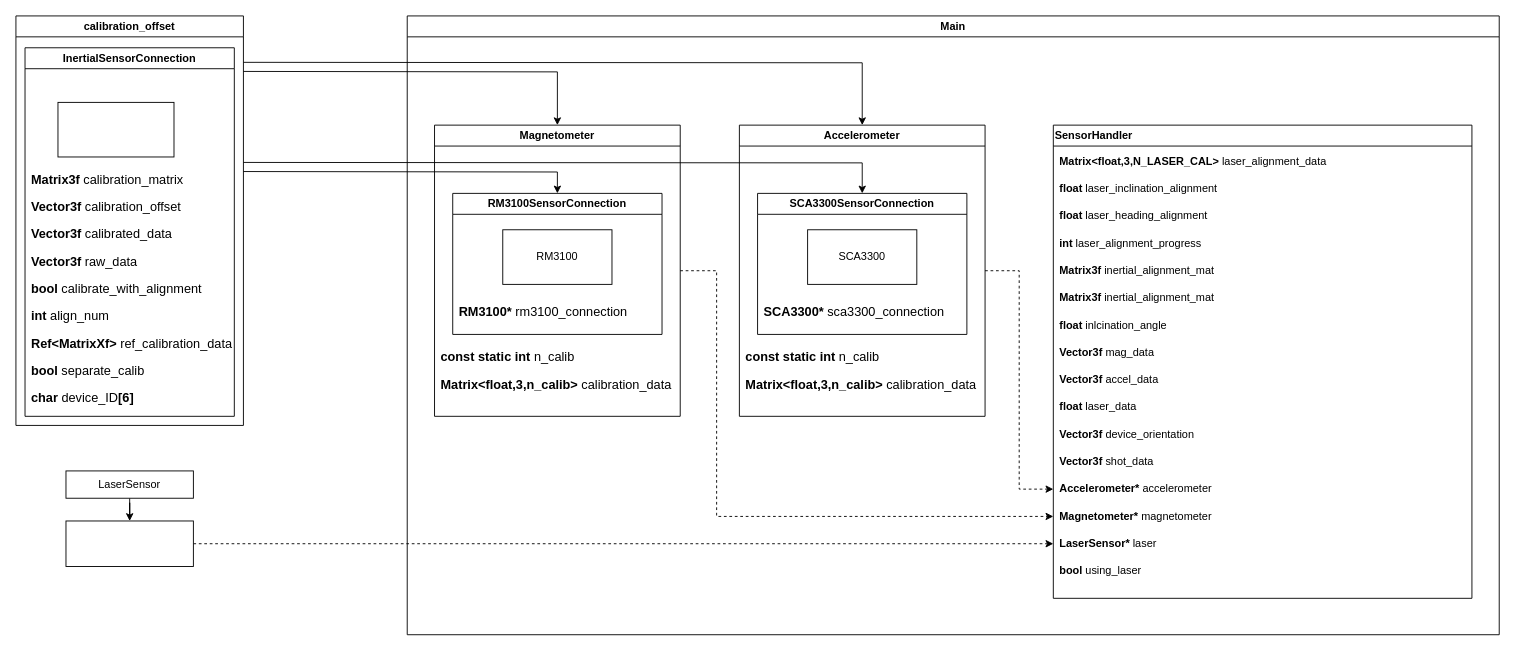
Some shapes in this 1515 by 651 pixel diagram are drawn without their labels. The centre of each missing label's shape, as x and y in pixels:
"LDK_2M" belongs at pixel 129 543.
"Sensor" belongs at pixel 115 129.
